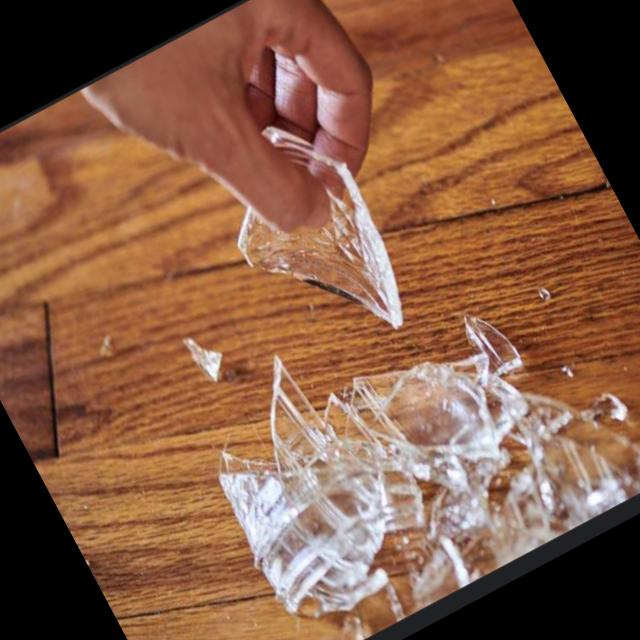PecahanKaca: (170, 177, 640, 640), (193, 98, 429, 376)
